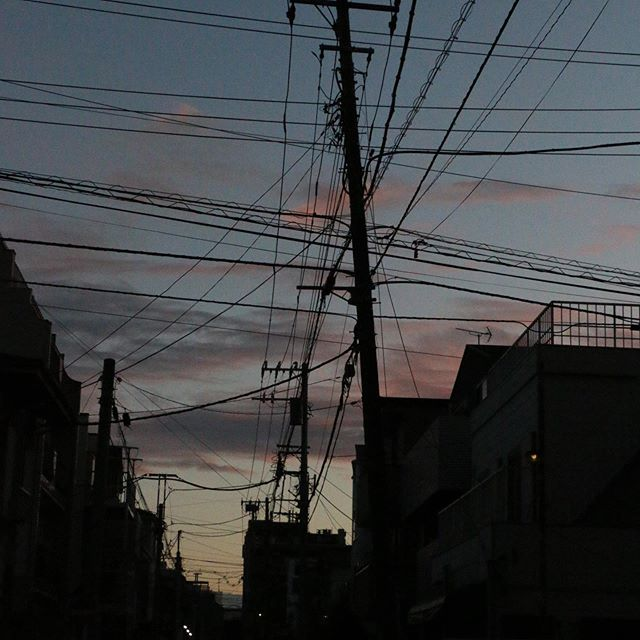building: (371, 335, 640, 639), (1, 248, 169, 640), (234, 503, 349, 640)
power pole: (277, 7, 406, 417)
sky: (69, 1, 640, 332)
